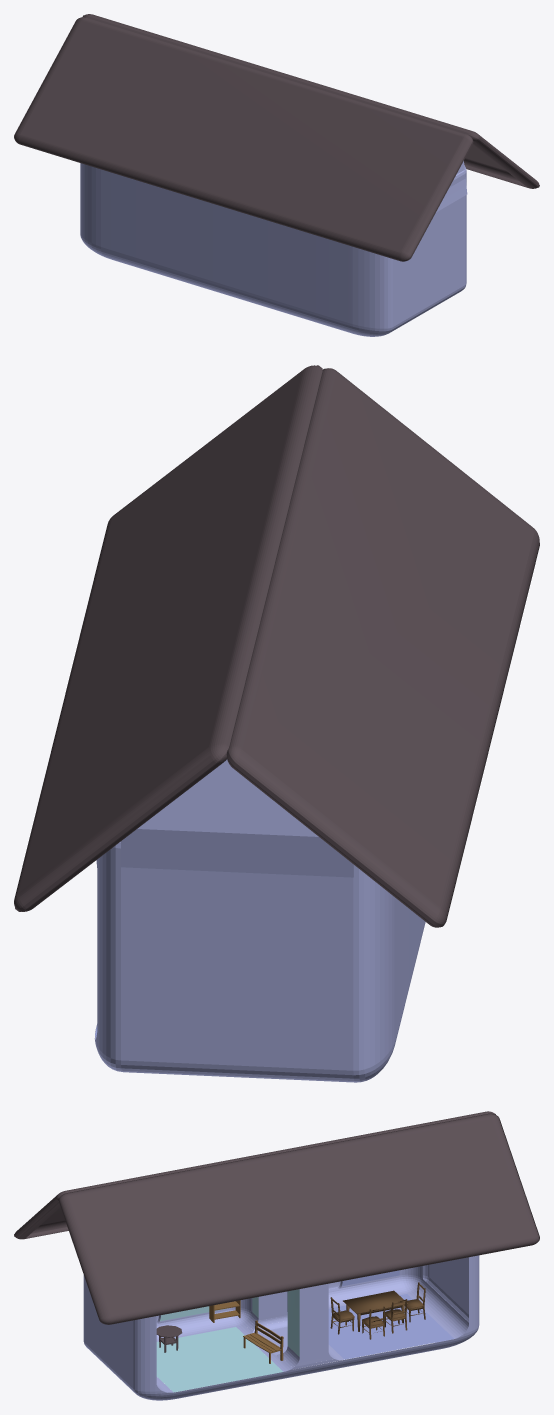
The model's file is House3.glb.
3 renders of one model, top to bottom at view 1: azimuth 30°, elevation 25°; view 2: azimuth 150°, elevation 25°; view 3: azimuth 270°, elevation 25°, orthographic. The views are drawn at different scales.
Parts seen in each view (by area): view 1: house.003; view 2: house.003; view 3: house.003.
Part boxes in pixels (x1,y1,x2,y2): house.003: [14, 14, 539, 336]; house.003: [14, 365, 539, 1082]; house.003: [14, 1111, 539, 1400].
Bounding box in the file's own units: 135 × 74.51 × 180.
2 materials, 2 textured.
